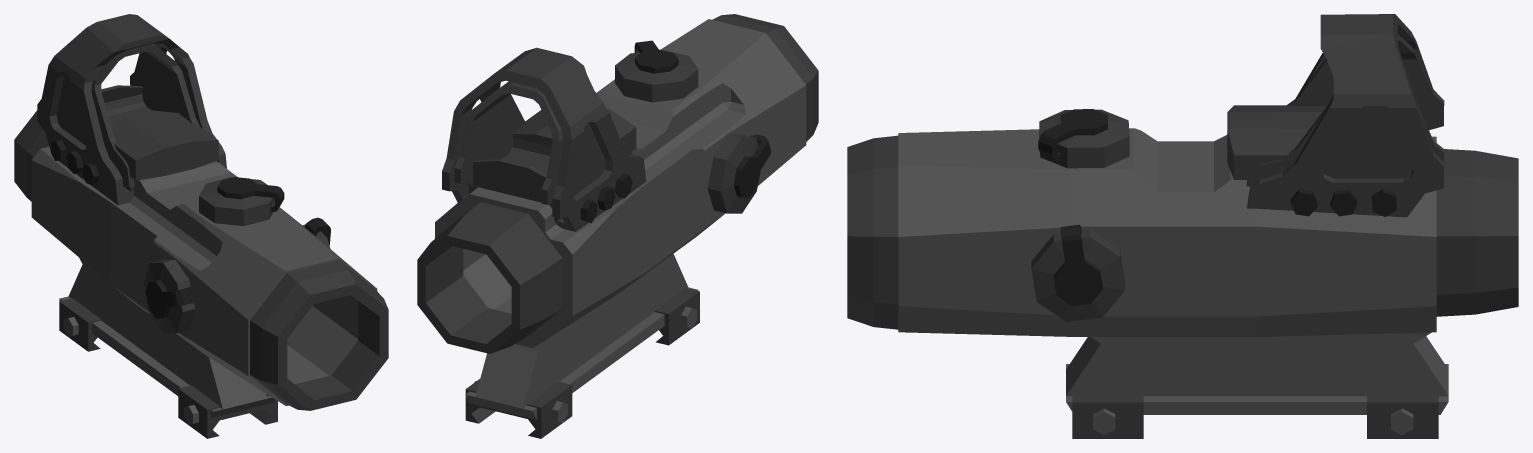
Rendered from SR_Scope_00.fbx.
The picture shows the model from 3 angles, left to right: view 1: azimuth 30°, elevation 25°; view 2: azimuth 150°, elevation 25°; view 3: azimuth 270°, elevation 25°; orthographic projection. The views are drawn at different scales.
Parts seen in each view (by area): view 1: SR_Scope_00; view 2: SR_Scope_00; view 3: SR_Scope_00.
Part boxes in pixels (x1,y1,x2,y2): SR_Scope_00: (14,14,388,438); SR_Scope_00: (417,14,818,438); SR_Scope_00: (847,14,1518,438).
Size of the model in its own units: 6.22 by 11.19 by 17.32.
